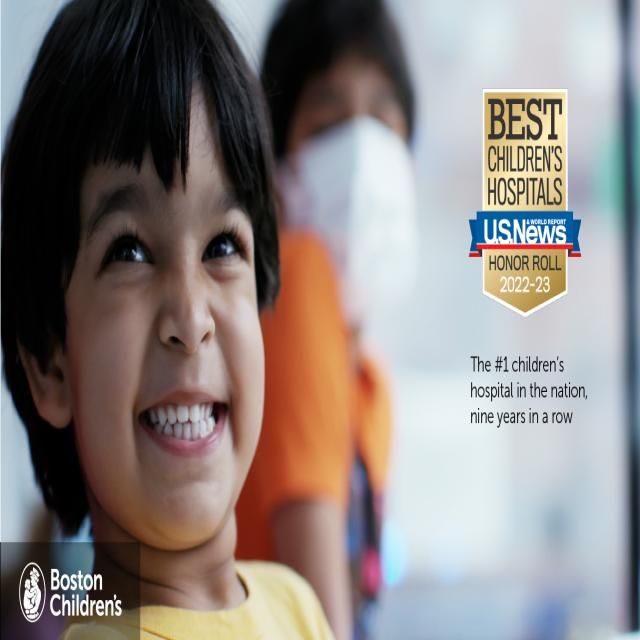child: (3, 0, 333, 640)
